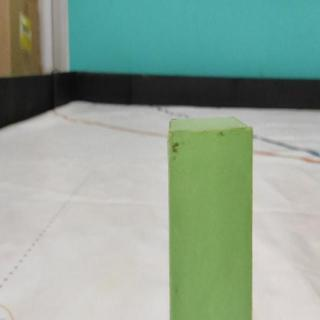greenbox: (169, 118, 252, 320)
